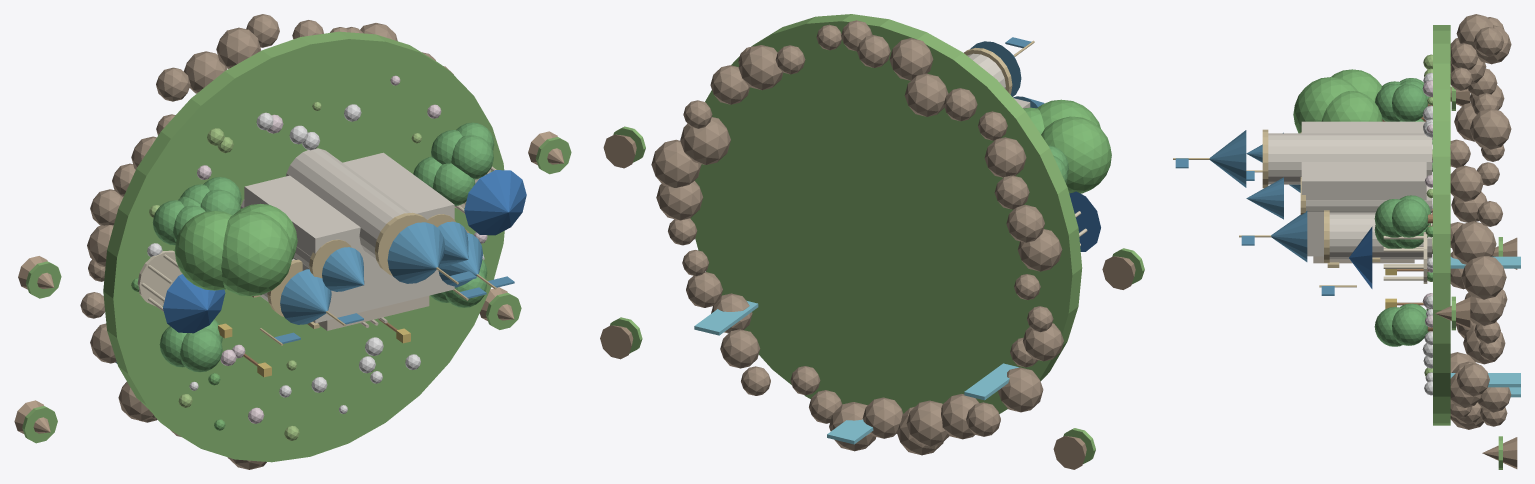
Rendered from WEIYANG_castle_colored_3D_prototype.glb.
3 views of the same model, side by side, from view 1: azimuth 30°, elevation 25°; view 2: azimuth 150°, elevation 25°; view 3: azimuth 270°, elevation 25° (orthographic). The views are drawn at different scales.
Parts seen in each view (by area): view 1: part_1, part_40, part_72, part_135, part_133, part_156, part_74, part_145, part_50, part_62, part_127, part_123 (+29 smaller); view 2: part_1, part_133, part_4, part_3, part_8, part_25, part_14, part_28, part_13, part_2, part_17, part_20 (+33 smaller); view 3: part_40, part_1, part_72, part_54, part_135, part_3, part_134, part_4, part_8, part_74, part_122, part_130 (+36 smaller).
Boxes of the visible parts, bbox=[...] form: part_1: bbox=[103, 31, 504, 462]; part_40: bbox=[244, 152, 454, 323]; part_72: bbox=[286, 148, 410, 259]; part_135: bbox=[221, 211, 292, 296]; part_133: bbox=[174, 211, 232, 290]; part_156: bbox=[464, 170, 526, 235]; part_74: bbox=[387, 222, 445, 283]; part_145: bbox=[163, 274, 225, 333]; part_50: bbox=[280, 269, 331, 324]; part_62: bbox=[322, 247, 364, 291]; part_127: bbox=[180, 328, 222, 372]; part_123: bbox=[451, 135, 493, 179]; part_1: bbox=[690, 14, 1082, 413]; part_133: bbox=[1041, 116, 1111, 193]; part_4: bbox=[680, 117, 730, 164]; part_3: bbox=[651, 139, 701, 187]; part_8: bbox=[738, 45, 782, 90]; part_25: bbox=[998, 367, 1043, 412]; part_14: bbox=[904, 73, 948, 116]; part_28: bbox=[906, 400, 949, 446]; part_13: bbox=[889, 38, 933, 80]; part_2: bbox=[656, 181, 703, 220]; part_17: bbox=[984, 137, 1026, 177]; part_20: bbox=[1018, 229, 1062, 271]; part_40: bbox=[1301, 121, 1426, 256]; part_1: bbox=[1433, 25, 1450, 425]; part_72: bbox=[1268, 133, 1432, 184]; part_54: bbox=[1329, 213, 1432, 259]; part_135: bbox=[1293, 77, 1357, 133]; part_3: bbox=[1461, 256, 1506, 299]; part_134: bbox=[1321, 91, 1382, 121]; part_4: bbox=[1451, 221, 1496, 264]; part_8: bbox=[1470, 108, 1511, 149]; part_74: bbox=[1209, 130, 1246, 187]; part_122: bbox=[1392, 199, 1428, 237]; part_130: bbox=[1392, 307, 1427, 345].
Size of the model in its own units: 23.44 by 18.07 by 14.75.
